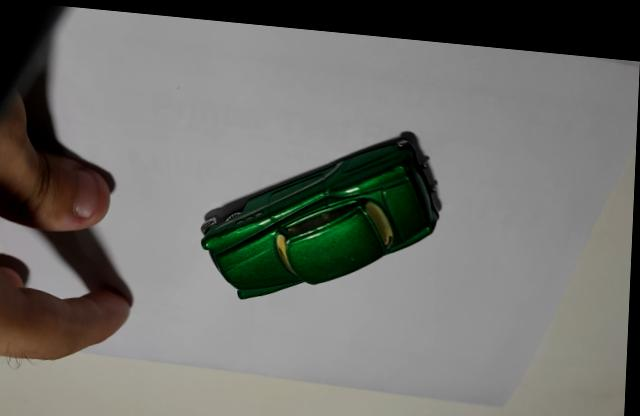06_MASERATI: (202, 122, 444, 293)
